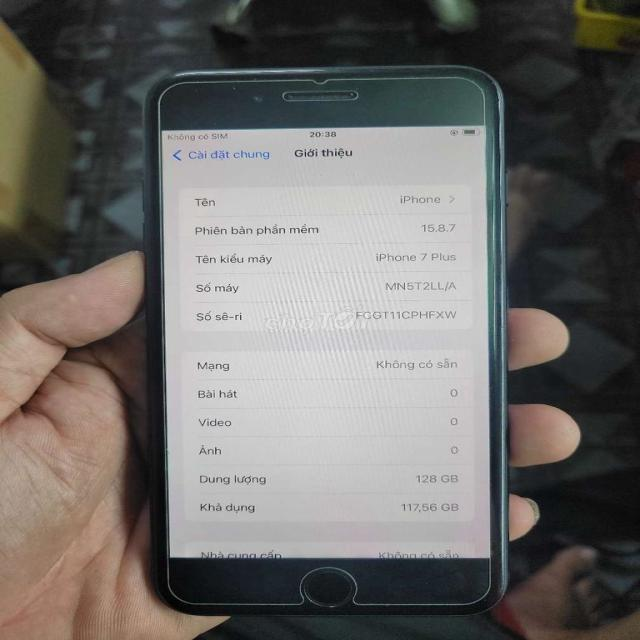gen_7_8: (128, 58, 516, 617)
